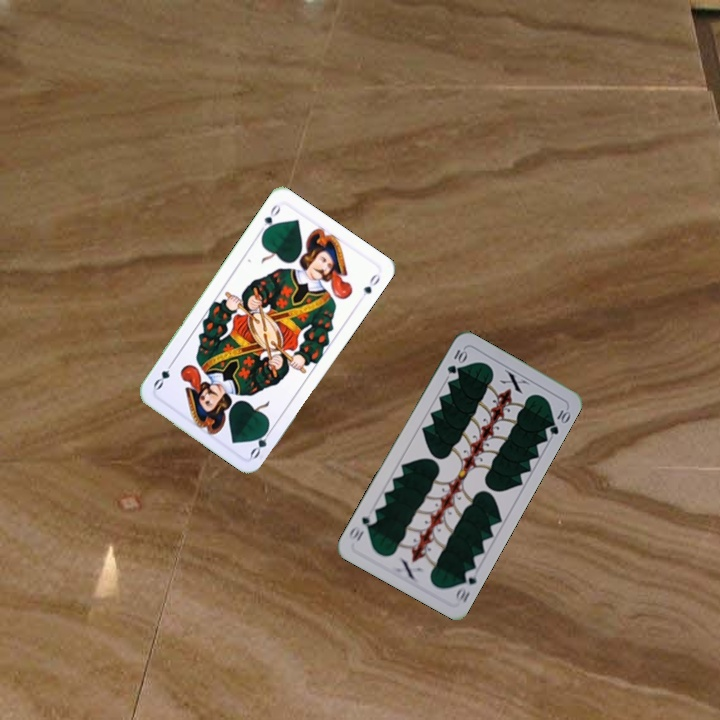G10: (451, 565, 480, 605), (443, 345, 469, 376)
GO: (246, 422, 275, 461), (255, 200, 283, 238)
